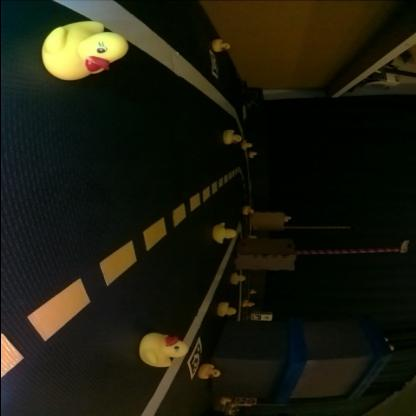Duckie: (42, 22, 127, 80), (138, 335, 186, 368), (213, 223, 237, 243), (216, 303, 236, 318), (222, 130, 240, 144), (202, 367, 221, 379), (212, 40, 230, 52), (231, 273, 245, 285), (243, 208, 254, 216), (242, 142, 252, 150), (221, 398, 231, 406), (249, 152, 256, 158), (247, 302, 254, 308), (248, 235, 256, 239), (285, 216, 291, 221)
QR code: (186, 338, 202, 380), (209, 52, 220, 80)
